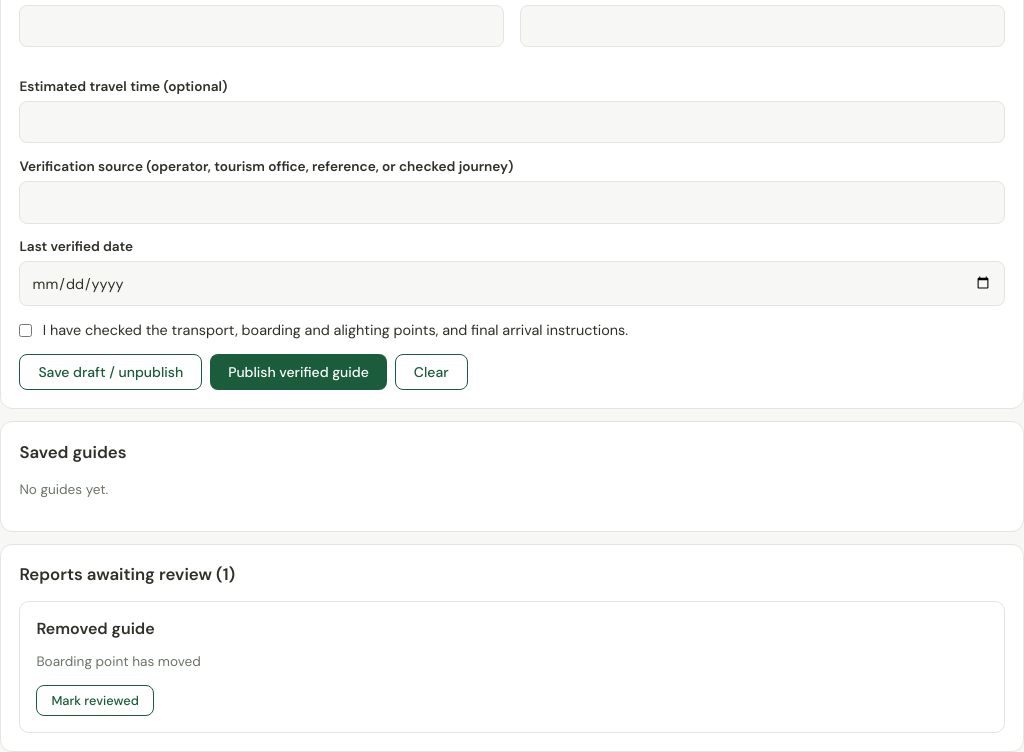
Test: admin can review and resolve reported guide issues
This screenshot has width=1024, height=752.
(page scrolled)
Expected: the text "Boarding point has moved" is shown, [36,653,201,670]
Click the button "Mark reviewed": (95, 700) [36,685,154,716]
(page scrolled)
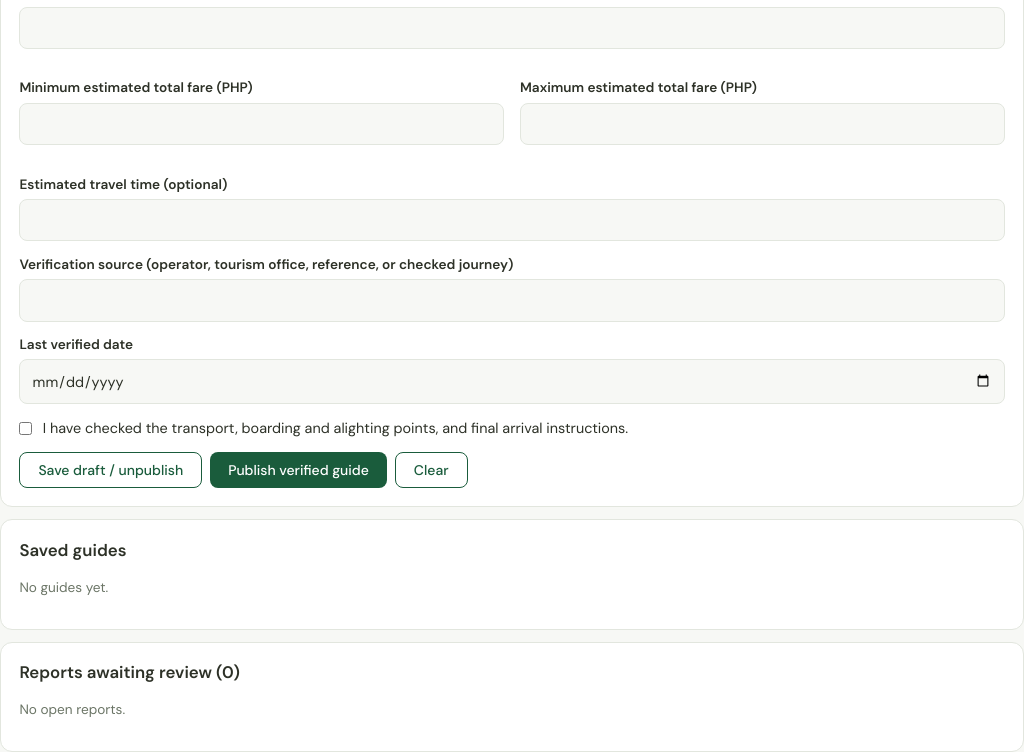
Result: the text "No open reports." is shown at [19,701,125,718]
